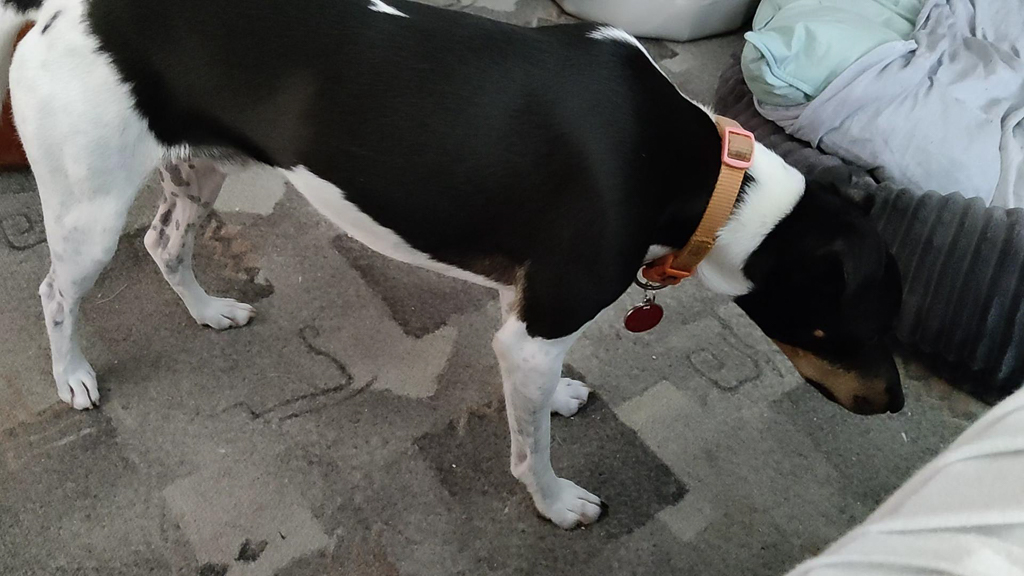Dog: (0, 0, 927, 540)
